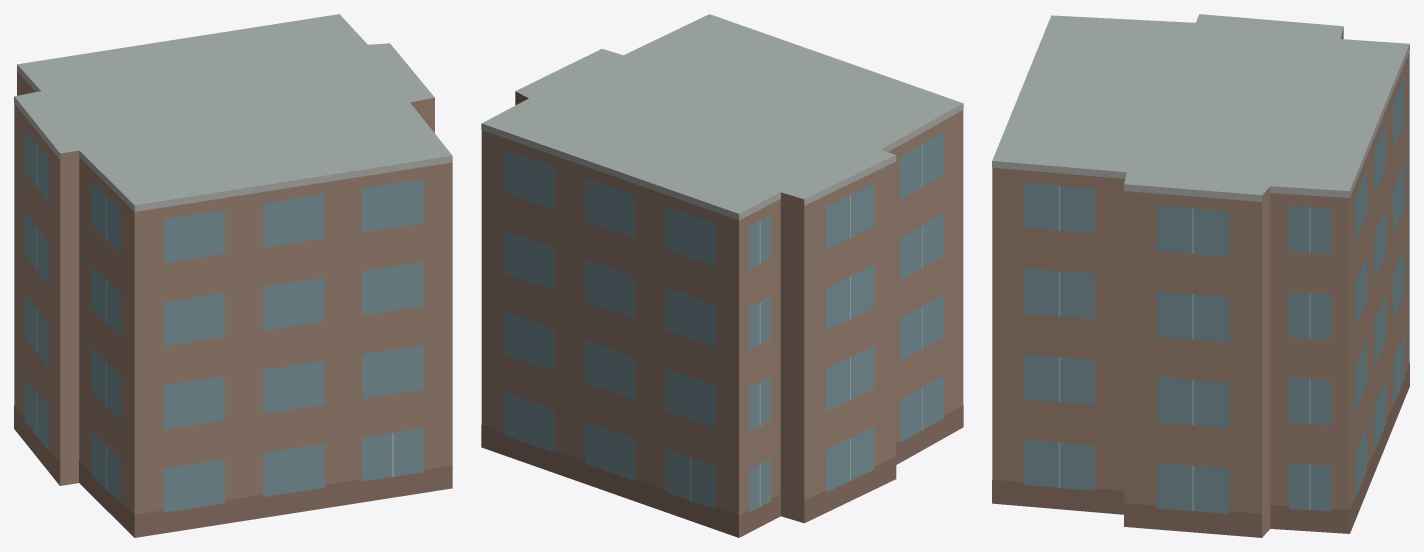
Rendered from survey-upis-32710286.glb.
The picture shows the model from 3 angles, left to right: view 1: azimuth 30°, elevation 25°; view 2: azimuth 150°, elevation 25°; view 3: azimuth 270°, elevation 25°; orthographic projection. The views are drawn at different scales.
Parts seen in each view (by area): view 1: survey-upis-32710286.tmp; view 2: survey-upis-32710286.tmp; view 3: survey-upis-32710286.tmp.
Part boxes in pixels (box(x1,y1,x2,y2)): survey-upis-32710286.tmp: box(14, 14, 452, 537); survey-upis-32710286.tmp: box(481, 14, 963, 537); survey-upis-32710286.tmp: box(992, 14, 1409, 537).
Size of the model in its own units: 13.85 by 12.2 by 13.49.
